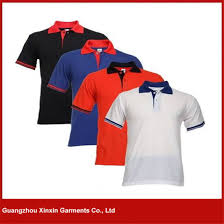S_polo shirt: (113, 81, 206, 186)
